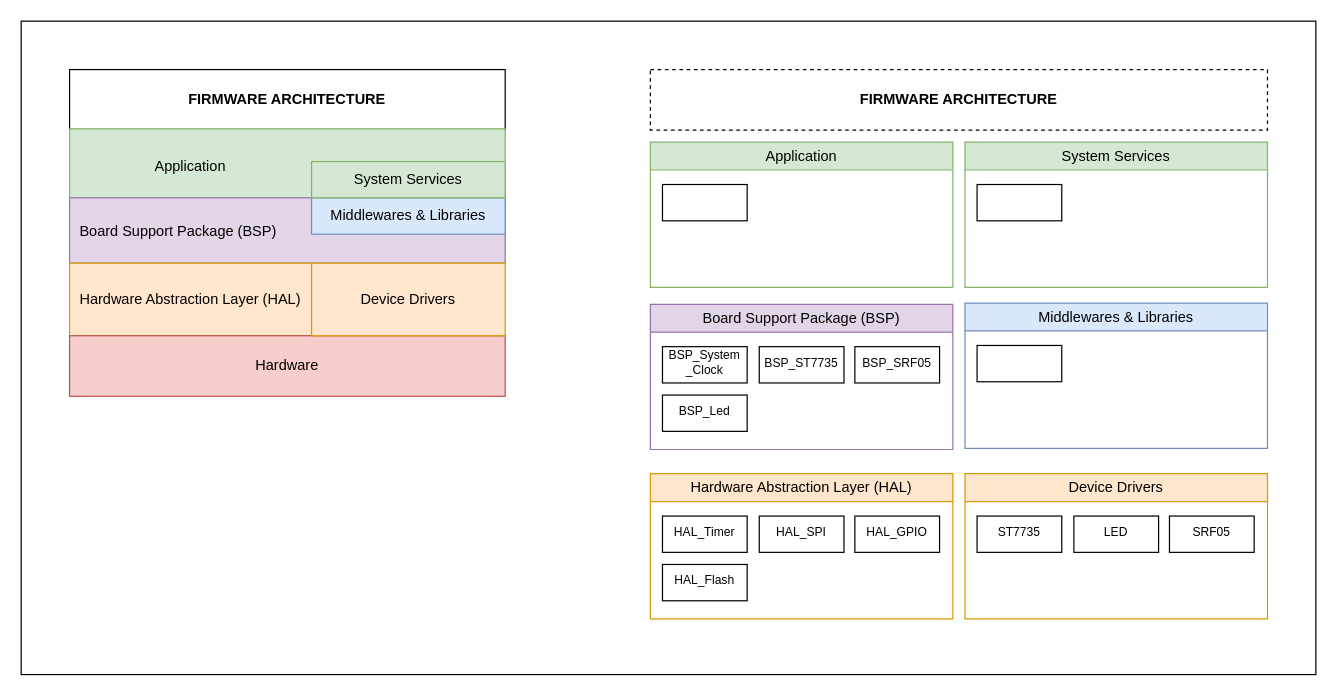
The diagram is 1337 pixels wide and 696 high, and some of its shapes have lost their labels. Each missing label, with the box of its shape:
Display service: (976, 183, 1062, 221)
Processor: (661, 183, 747, 221)
ST7735_Font: (976, 344, 1062, 382)
